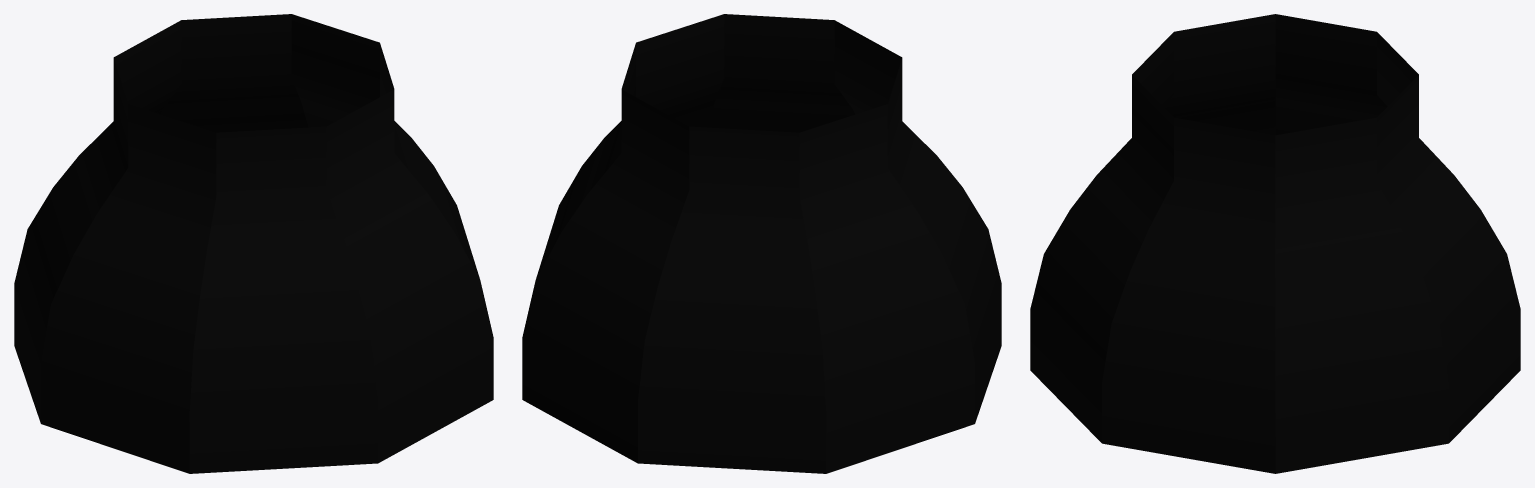
File: ceiling_light.fbx
3 renders of one model, left to right at view 1: azimuth 30°, elevation 25°; view 2: azimuth 150°, elevation 25°; view 3: azimuth 270°, elevation 25°, orthographic.
Visible parts, largest first — view 1: ceiling_light; view 2: ceiling_light; view 3: ceiling_light.
Boxes of the visible parts, left/top/right/bottom form: ceiling_light: left=14, top=14, right=493, bottom=473; ceiling_light: left=522, top=14, right=1001, bottom=473; ceiling_light: left=1030, top=14, right=1520, bottom=473.
Size of the model in its own units: 147 by 98.16 by 148.
1 material, 1 textured.
